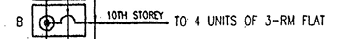Single Phase Tap-Off Unit: (27, 2, 90, 39)
